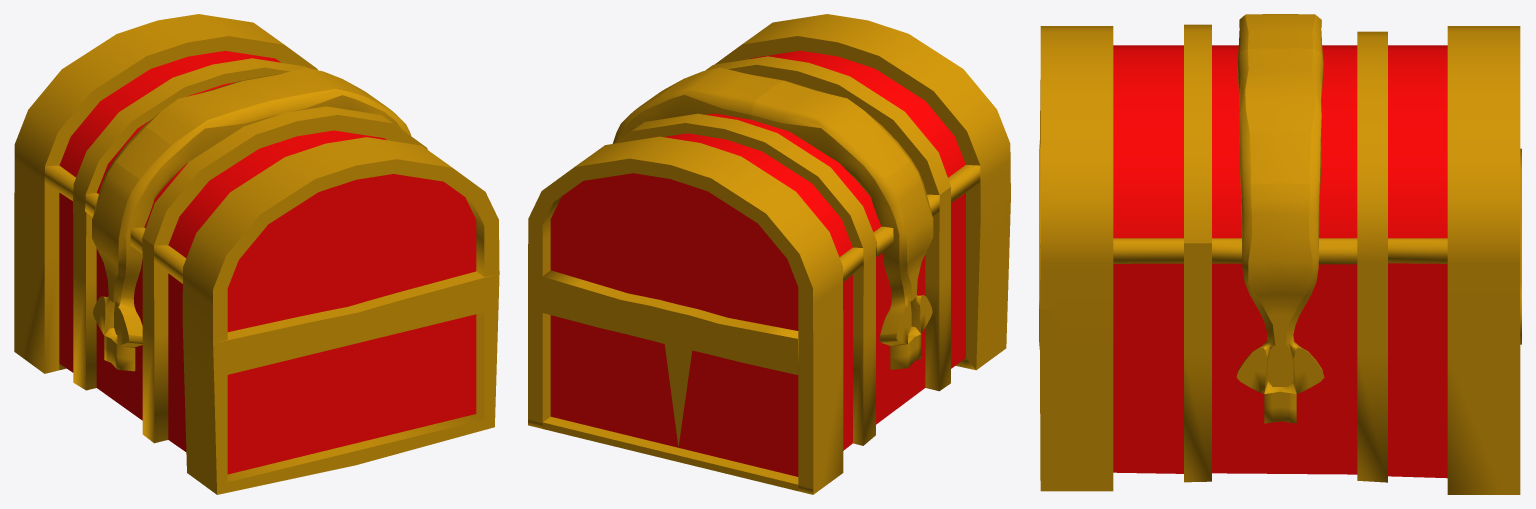
Rendered from takarabako.fbx.
3 renders of one model, left to right at view 1: azimuth 30°, elevation 25°; view 2: azimuth 150°, elevation 25°; view 3: azimuth 270°, elevation 25°, orthographic. The views are drawn at different scales.
Parts seen in each view (by area): view 1: Cube.002; view 2: Cube.002; view 3: Cube.002.
Part boxes in pixels (box(x1,y1,x2,y2)): Cube.002: box(14, 14, 499, 494); Cube.002: box(528, 14, 1010, 494); Cube.002: box(1039, 14, 1521, 494).
Bounding box in the file's own units: 257 × 245 × 293.
